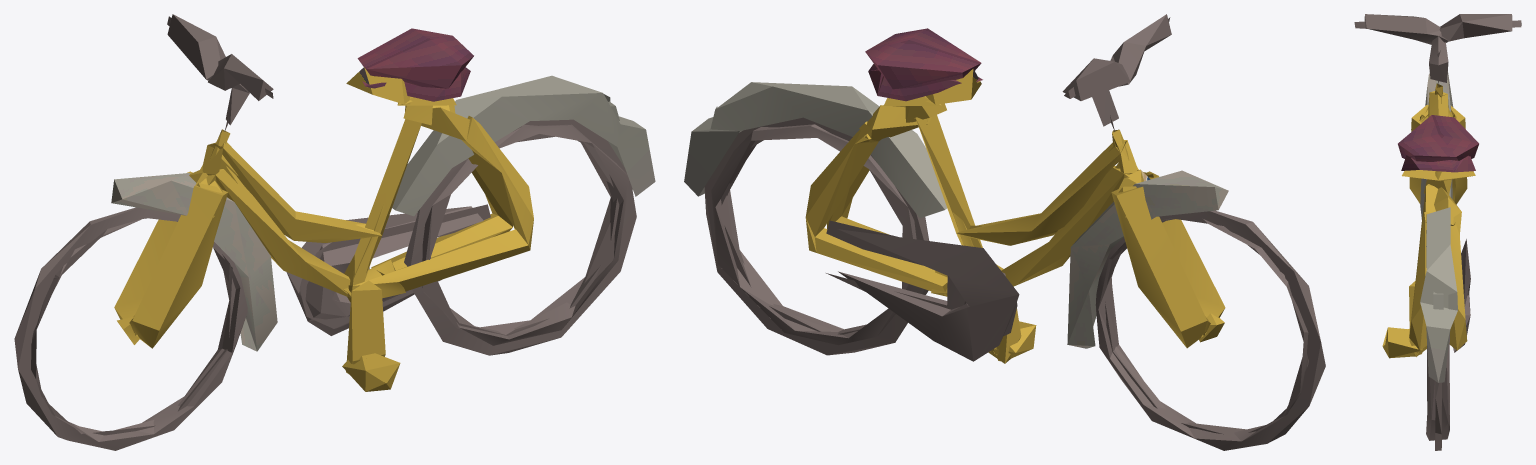
The model's file is 123_bicycle.gltf.
3 views of the same model, side by side, from view 1: azimuth 30°, elevation 25°; view 2: azimuth 150°, elevation 25°; view 3: azimuth 270°, elevation 25° (orthographic). The views are drawn at different scales.
Parts seen in each view (by area): view 1: bicycle; view 2: bicycle; view 3: bicycle.
Part boxes in pixels (x1,y1,x2,y2): bicycle: [14, 14, 655, 450]; bicycle: [684, 14, 1325, 450]; bicycle: [1354, 14, 1521, 450].
Bounding box in the file's own units: 2.32 × 1.31 × 0.6476.
1 material, 1 textured.
